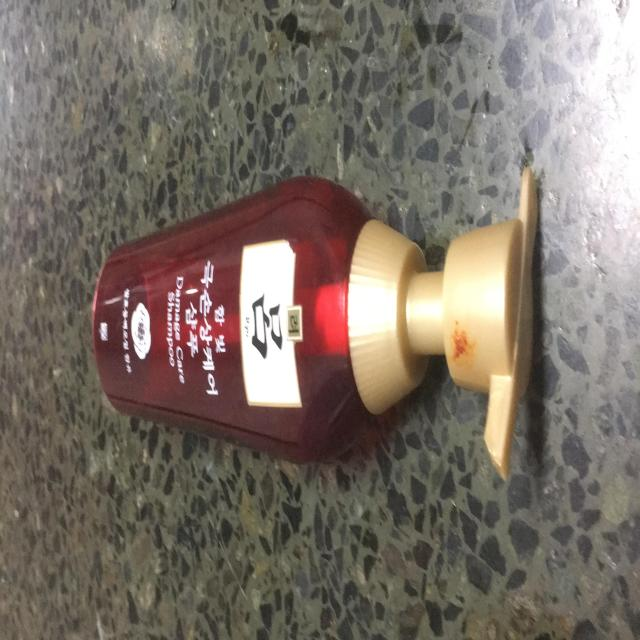bottle: (89, 167, 559, 479)
